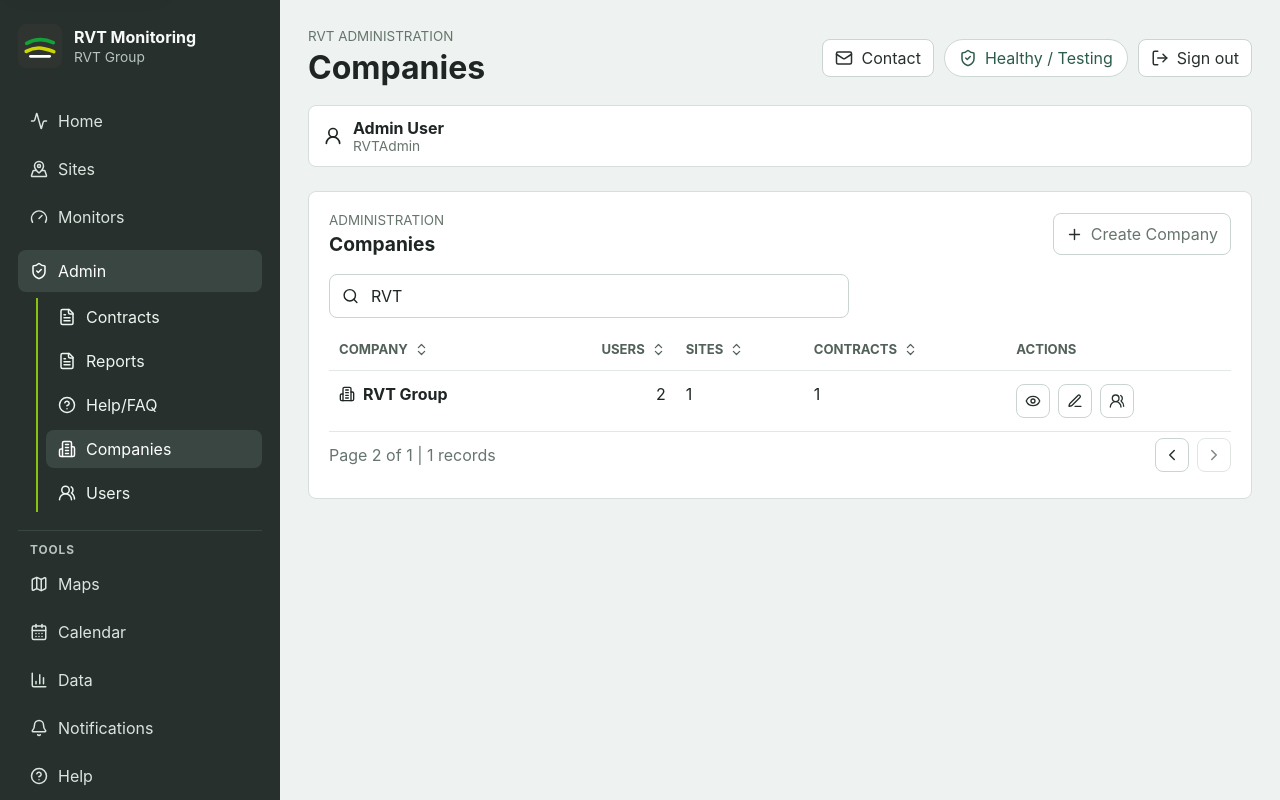
Test: App › returns admin edit forms to the filtered list that opened them
expect the heading "Companies" below "RVT administration" is shown: met, box [308, 48, 485, 87]
Click the button named "edit company": (1075, 401) [1058, 384, 1092, 418]
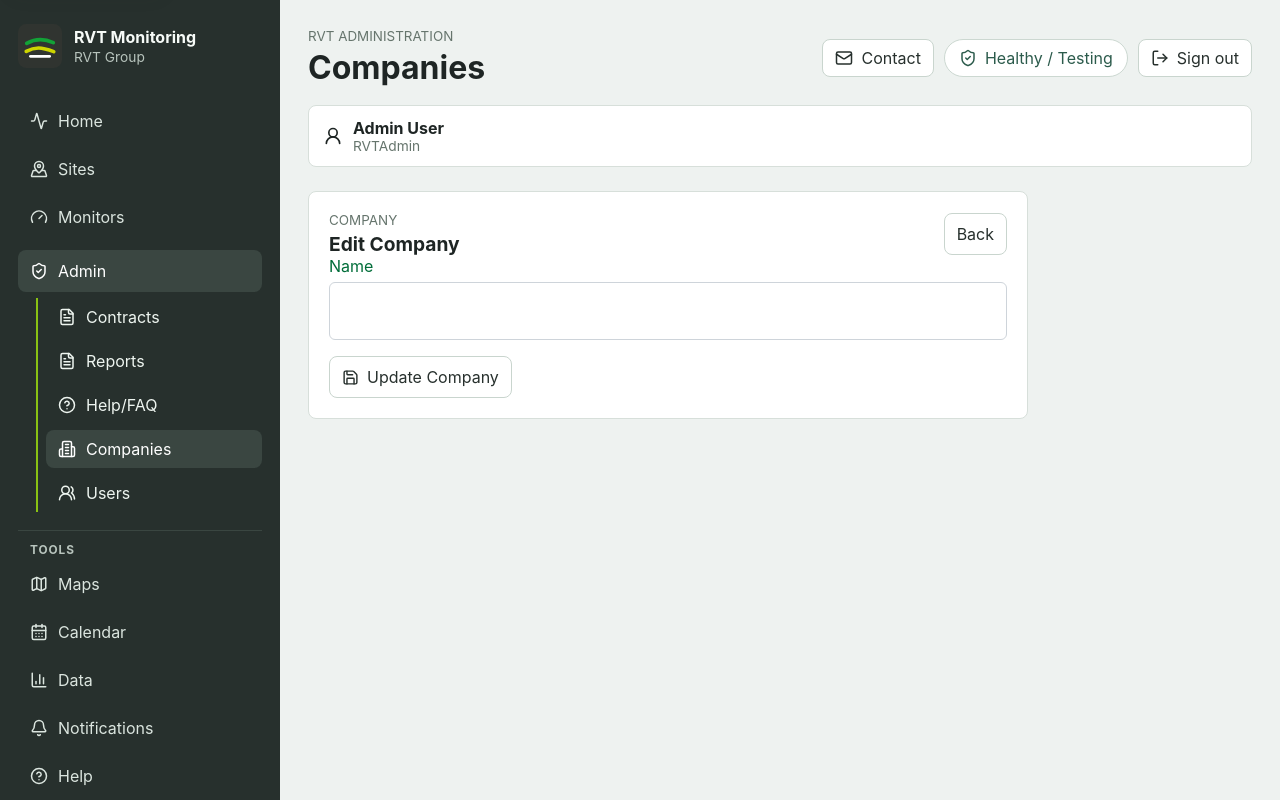
expect the heading "Edit Company" is shown: met, box [329, 232, 460, 256]
Click the button "Back": (975, 234) [944, 213, 1007, 255]
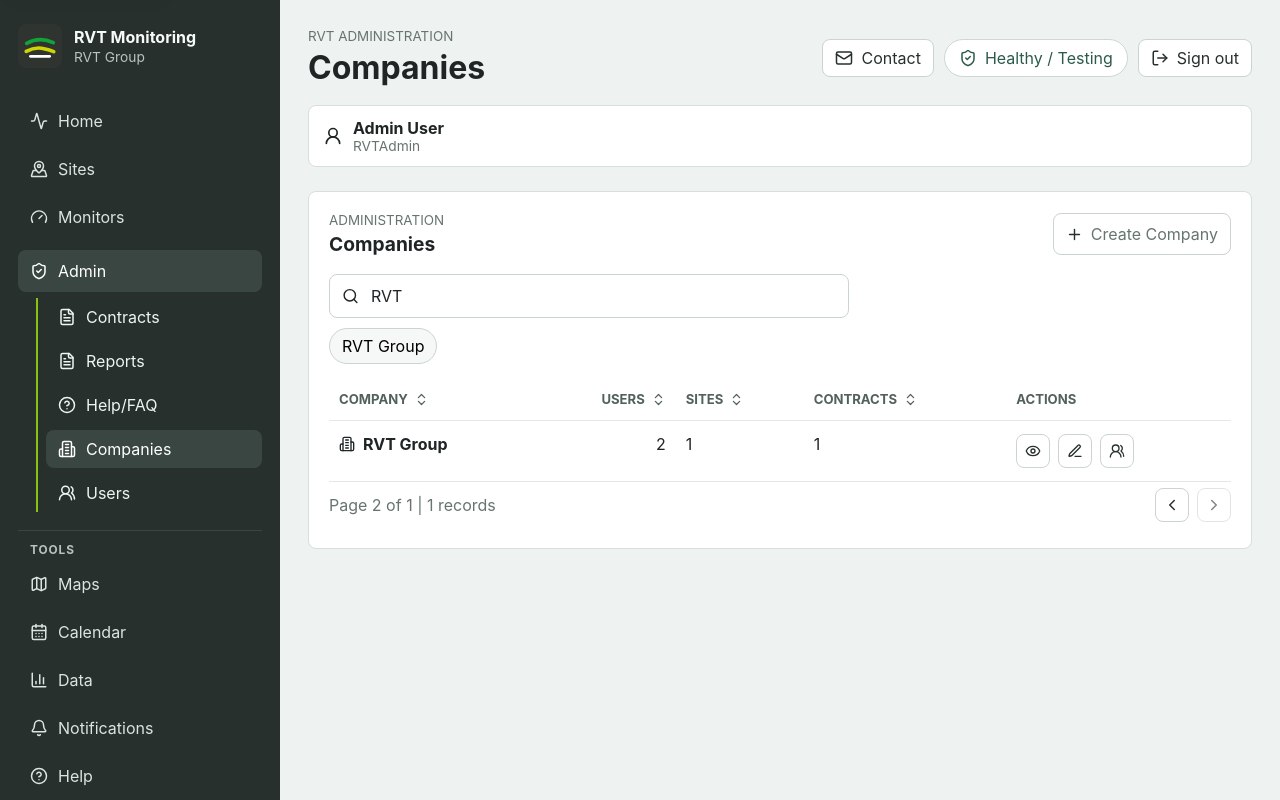
expect the button named "edit company" is shown: met, box [1058, 434, 1092, 468]
